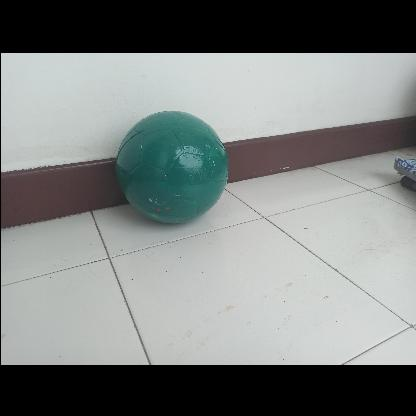green_ball: (113, 109, 227, 223)
